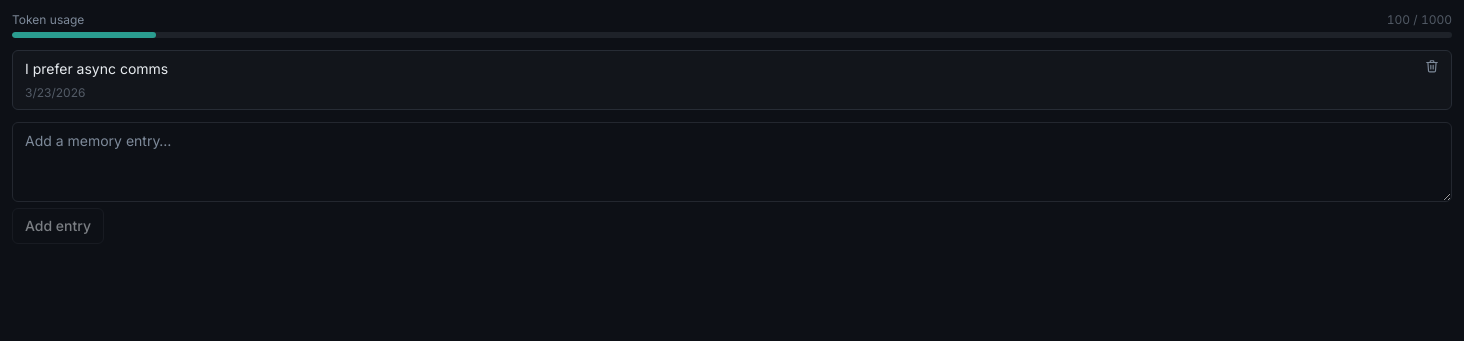
Test: ActiveMemoryPanel › inline edit › clicking entry content opens edit textarea pre-filled with content
Click the button "I prefer async comms" at (97, 68), box [25,59,1417,79]
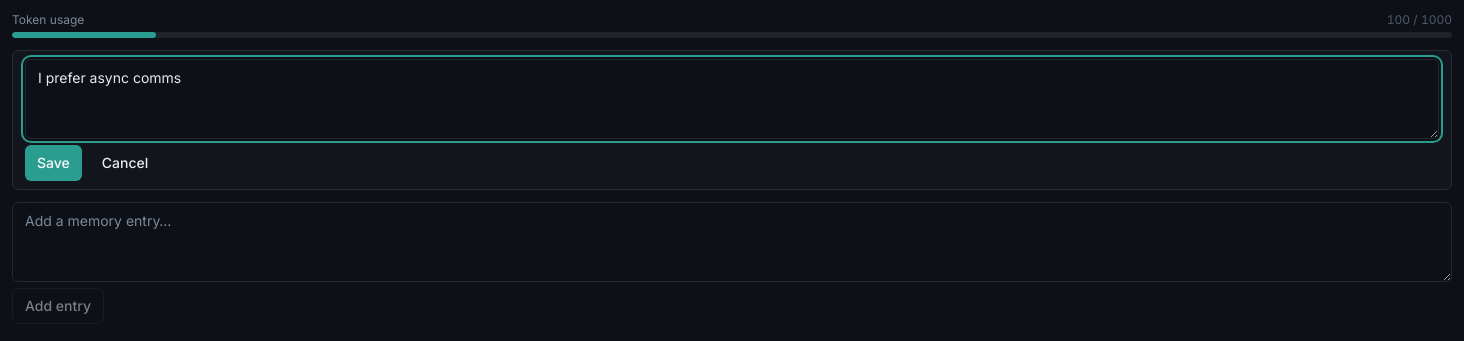
Now the text box showing "I prefer async comms" holds "I prefer async comms", box [25,59,1439,139]
